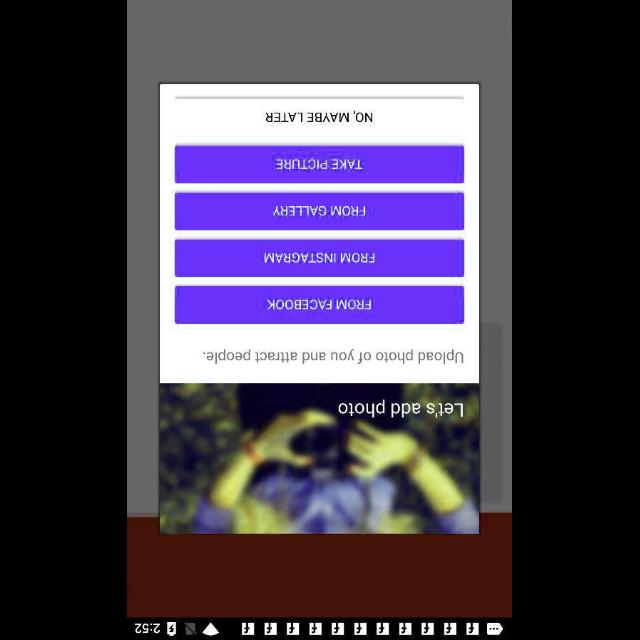image: (161, 383, 479, 532)
panel: (160, 84, 480, 532)
text: (203, 348, 464, 364), (339, 398, 463, 418)
textbutton: (176, 98, 466, 136), (175, 192, 465, 230), (176, 145, 464, 183), (176, 286, 464, 324), (176, 240, 464, 276)
uppertaskbar: (128, 617, 512, 639)
